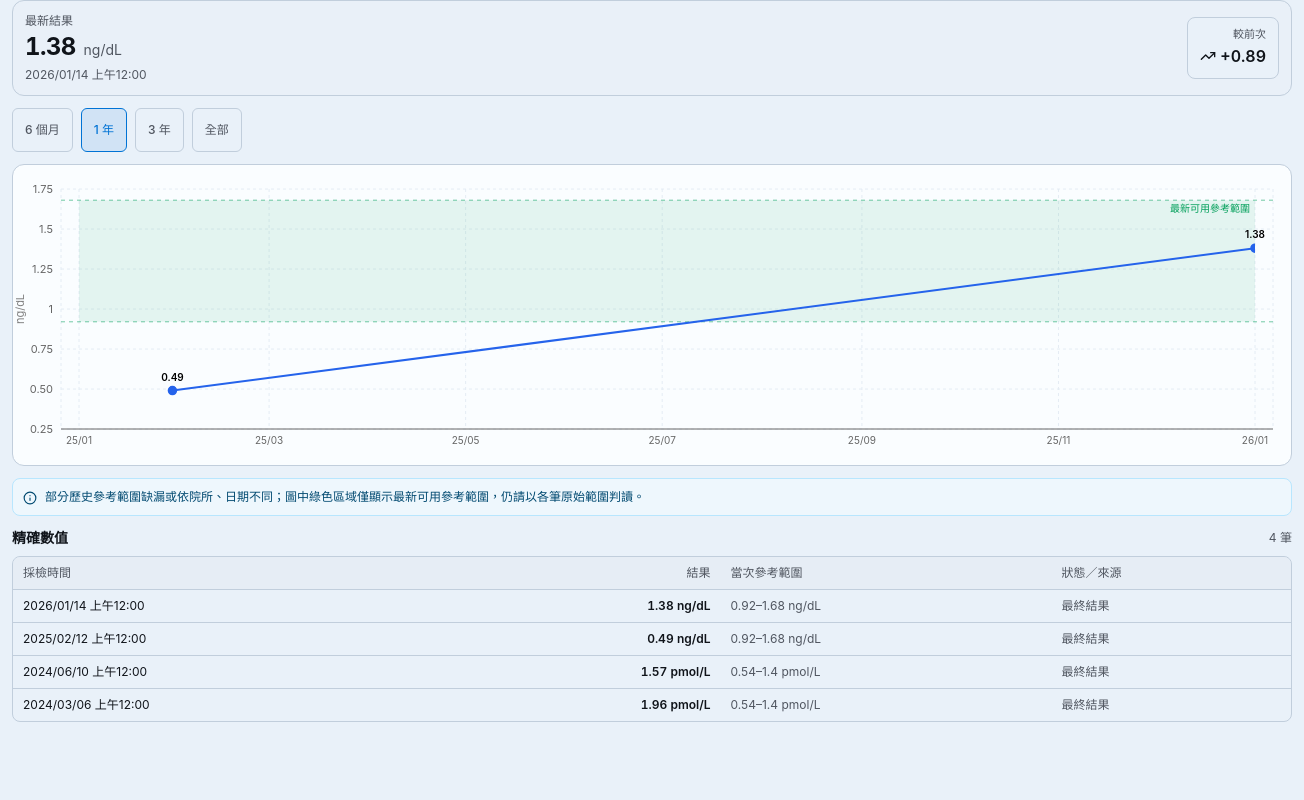
Test: CumulativeLabTrendDetail visible-window unit safety › draws a recent trend when incompatible units exist only outside the selected range
The width and height of the screenshot is (1304, 800).
Check: the picture named "檢驗趨勢圖，共 2 筆" is shown, box left=13, top=165, right=1291, bottom=465
Check: the text "所選時間範圍包含無法安全合併的不同單位" is not shown
Click the button "全部" at [217, 130], box left=192, top=108, right=242, bottom=152
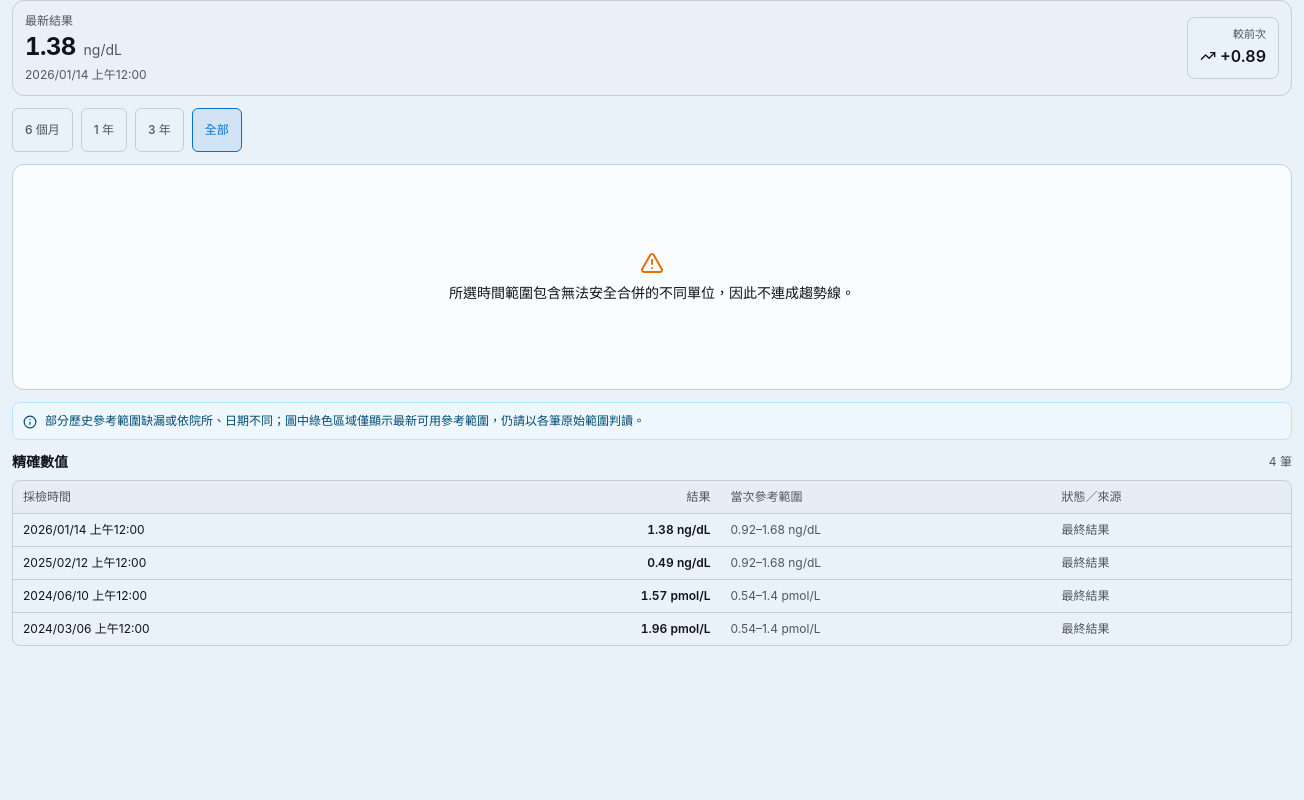
Check: the text "所選時間範圍包含無法安全合併的不同單位，因此不連成趨勢線。" is shown, box left=449, top=283, right=855, bottom=303
Click the button "1 年" at [104, 130], box left=81, top=108, right=127, bottom=152
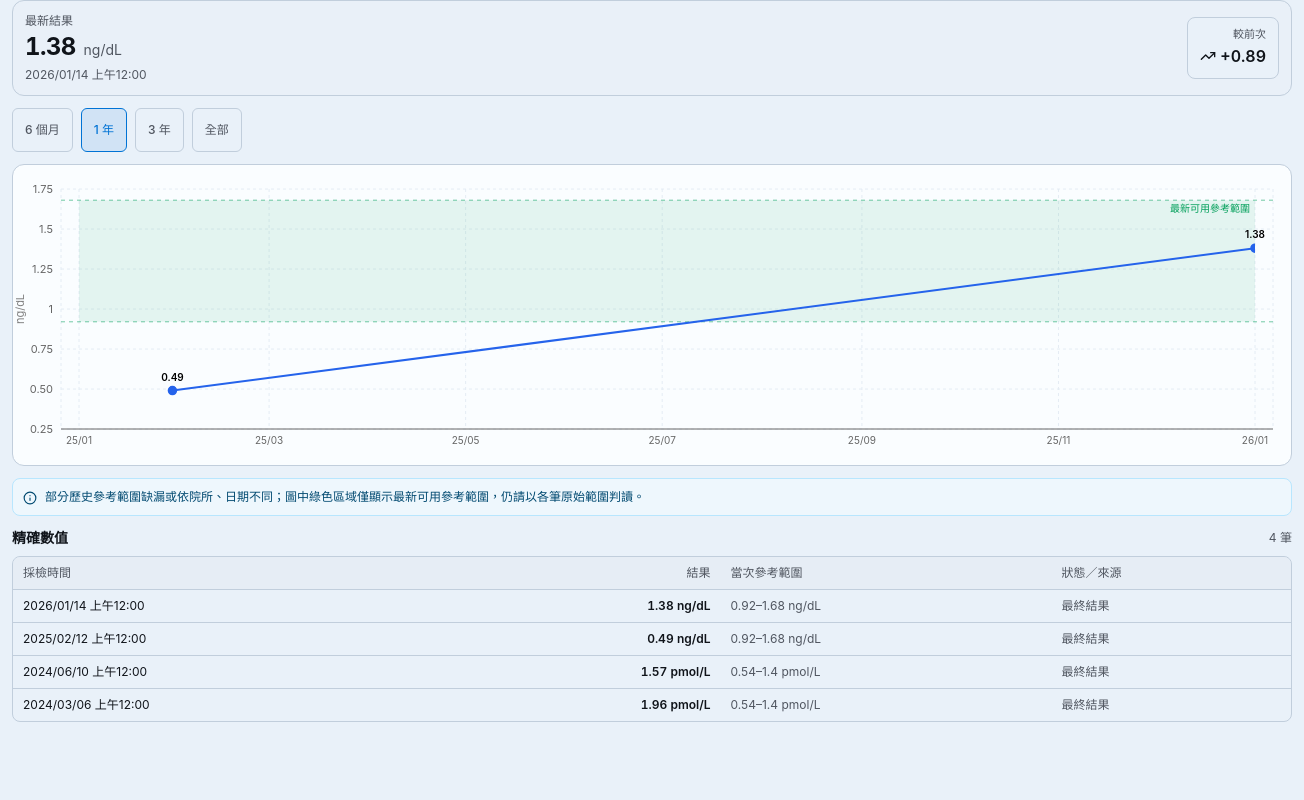
Check: the picture named "檢驗趨勢圖，共 2 筆" is shown, box left=13, top=165, right=1291, bottom=465
